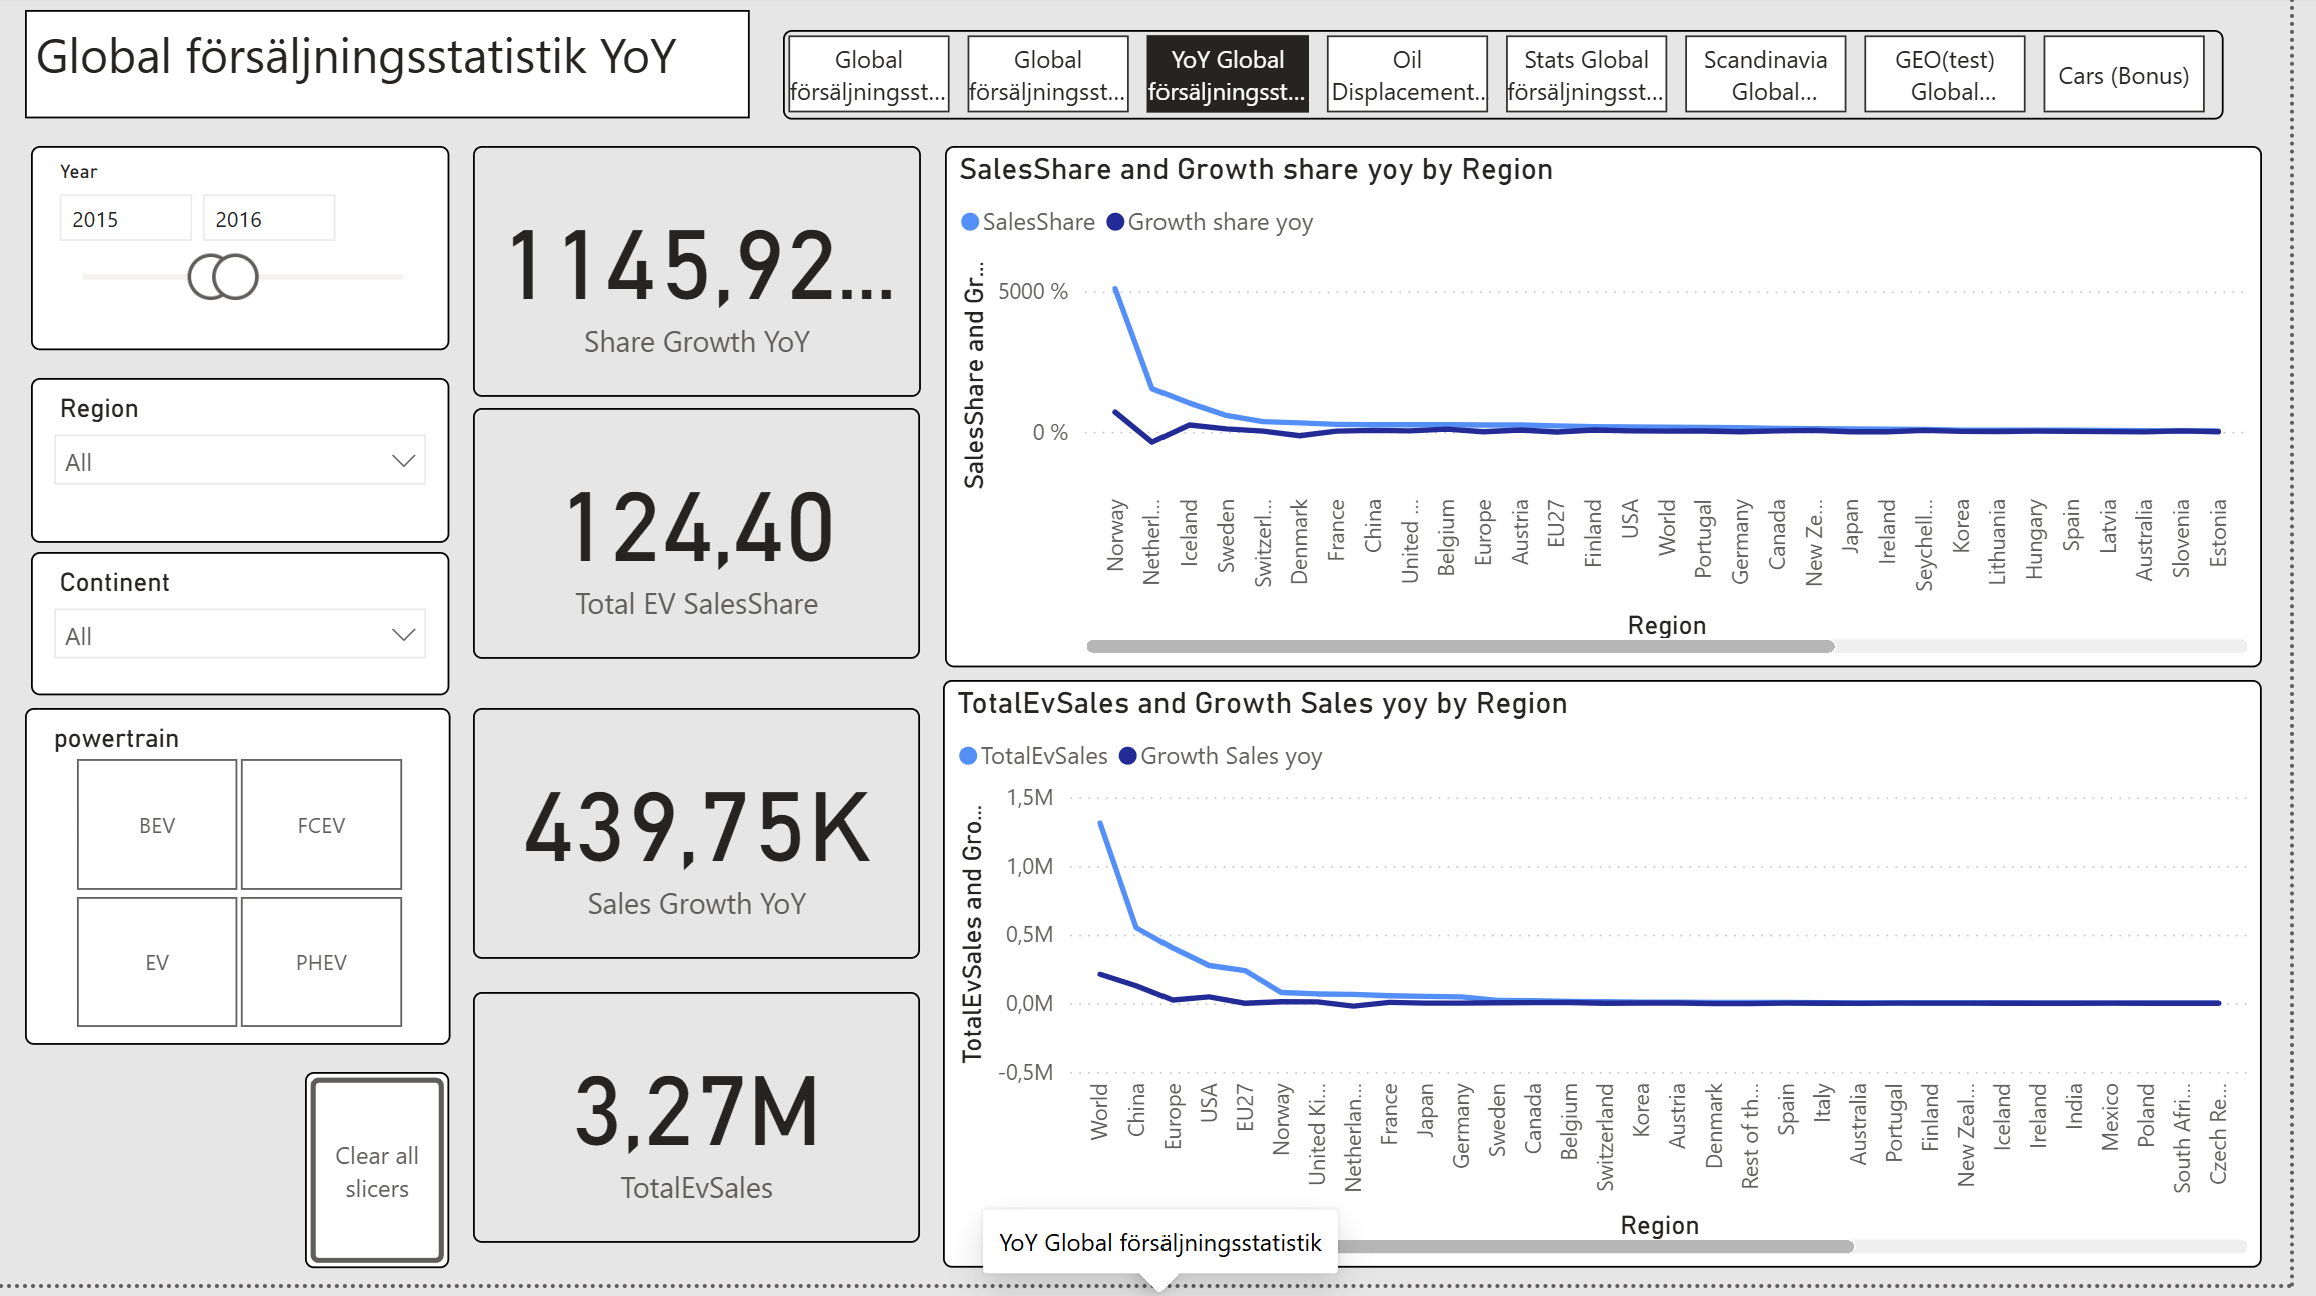

This screenshot's page, from the dashboard's own definition file:
{"tool":"powerbi","page":{"name":"YoY Global försäljningsstatistik ","canvas":[1280,720],"ordinal":2},"visuals":[{"type":"textbox","box":[17.1,9.2,404.3,60.4],"z":0},{"type":"slicer","fields":{"Values":["Dim region.region"]},"box":[19.7,214,233.6,91.9],"z":1000},{"type":"slicer","fields":{"Values":["Dim_Powertrain.powertrain"]},"box":[16.8,398.6,237.4,188.1],"z":2000},{"type":"slicer","fields":{"Values":["Dim_date.Year"]},"box":[19.7,85.3,233.6,114.2],"z":3000},{"type":"slicer","fields":{"Values":["Dim Region.Kontinent"]},"box":[19.7,311.1,233.6,80.1],"z":4000},{"type":"actionButton","box":[173.6,601.3,80.6,109.7],"z":5000},{"type":"pageNavigator","box":[439.7,19.7,803.3,49.9],"z":6000},{"type":"lineChart","fields":{"Category":["Dim Region.region"],"Y":["+Measure.TotalSalesShare","+Measure.Growth_Comparison_PercentUnits Share"]},"box":[530.7,85.1,734.5,291.1],"z":7000},{"type":"card","fields":{"Values":["+Measure.TotalSalesShare"]},"box":[266.5,230.7,249.7,140],"z":8000},{"type":"card","fields":{"Values":["+Measure.Growth_Comparison_PercentUnits Share"]},"box":[266.5,85.1,250,140],"z":9000},{"type":"lineChart","fields":{"Category":["Dim Region.region"],"Y":["+Measure.TotalSales","+Measure.Growth_Comparison_PercentUnits"]},"box":[529.6,382.9,735.7,328.1],"z":10000},{"type":"card","fields":{"Values":["+Measure.Growth_Comparison_PercentUnits"]},"box":[266.5,398.6,249.7,140],"z":11000},{"type":"card","fields":{"Values":["+Measure.TotalSales"]},"box":[266.5,556.5,249.7,140],"z":12000}]}

Visuals, with their boxes in screenshot pixels (x1, y1, x2, y2):
textbox: [x1=24, y1=10, x2=742, y2=118]
slicer - Dim region.region: [x1=29, y1=374, x2=444, y2=537]
slicer - Dim_Powertrain.powertrain: [x1=24, y1=702, x2=445, y2=1036]
slicer - Dim_date.Year: [x1=29, y1=145, x2=444, y2=348]
slicer - Dim Region.Kontinent: [x1=29, y1=547, x2=444, y2=689]
actionButton: [x1=302, y1=1062, x2=445, y2=1257]
pageNavigator: [x1=775, y1=29, x2=2202, y2=118]
lineChart - Dim Region.region x +Measure.TotalSalesShare: [x1=937, y1=145, x2=2241, y2=662]
card - +Measure.TotalSalesShare: [x1=467, y1=404, x2=911, y2=652]
card - +Measure.Growth_Comparison_PercentUnits Share: [x1=467, y1=145, x2=911, y2=394]
lineChart - Dim Region.region x +Measure.TotalSales: [x1=935, y1=674, x2=2241, y2=1257]
card - +Measure.Growth_Comparison_PercentUnits: [x1=467, y1=702, x2=911, y2=951]
card - +Measure.TotalSales: [x1=467, y1=982, x2=911, y2=1231]
